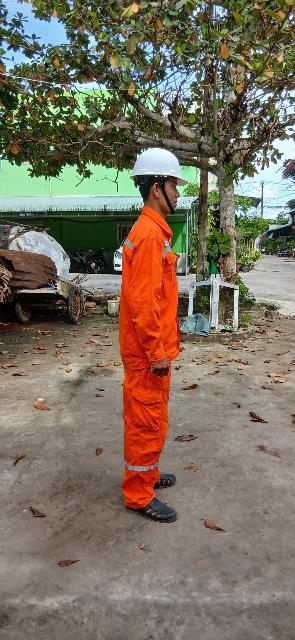helmet: (122, 143, 208, 199)
shoes: (128, 498, 184, 528), (137, 461, 181, 496)
